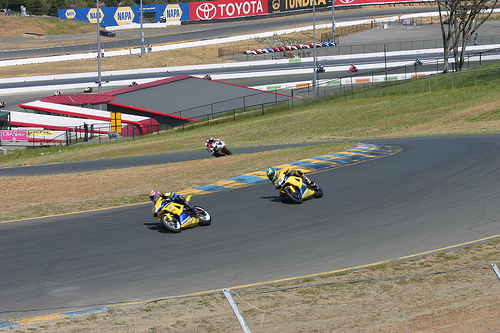helmet: (144, 190, 159, 202), (264, 167, 277, 178)
